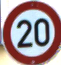20 km speed: (1, 1, 61, 64)
